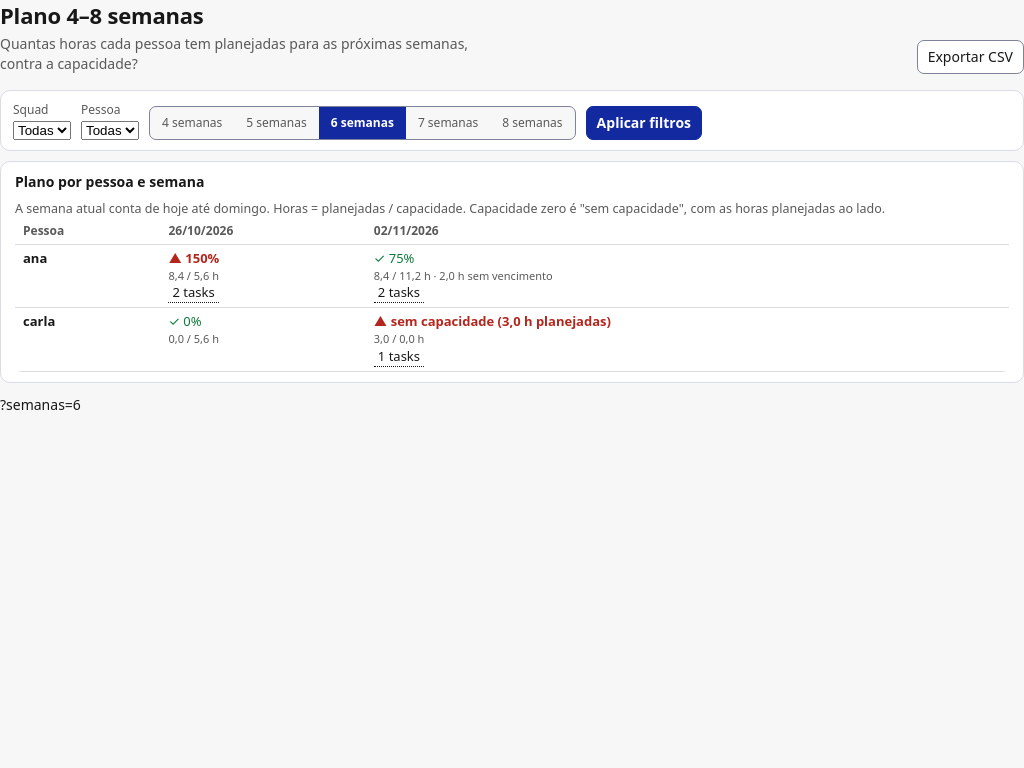
Test: tela Plano de 4 a 8 semanas › celulaAbreAsTasksDaSemana
The width and height of the screenshot is (1024, 768).
Click the button with aria-label "Tasks de ana na semana de 26/10/2026: 2": {"x": 194, "y": 293} x1=168 y1=284 x2=219 y2=303
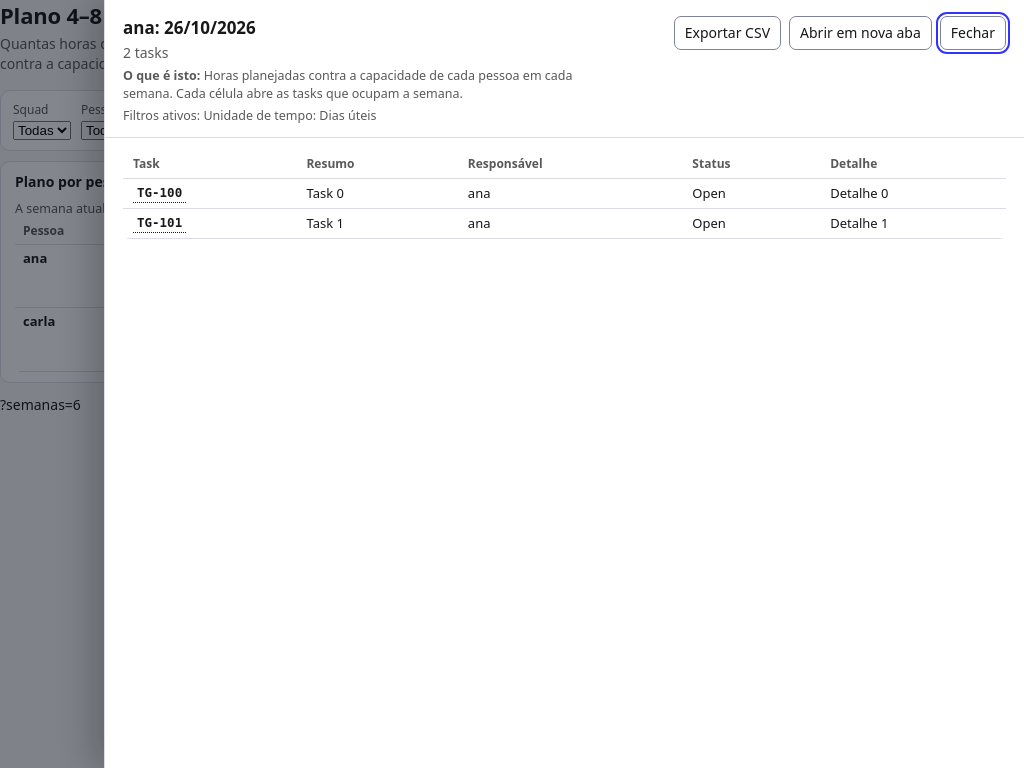
Now the text "2 tasks" is shown, box x1=123 y1=43 x2=168 y2=62
